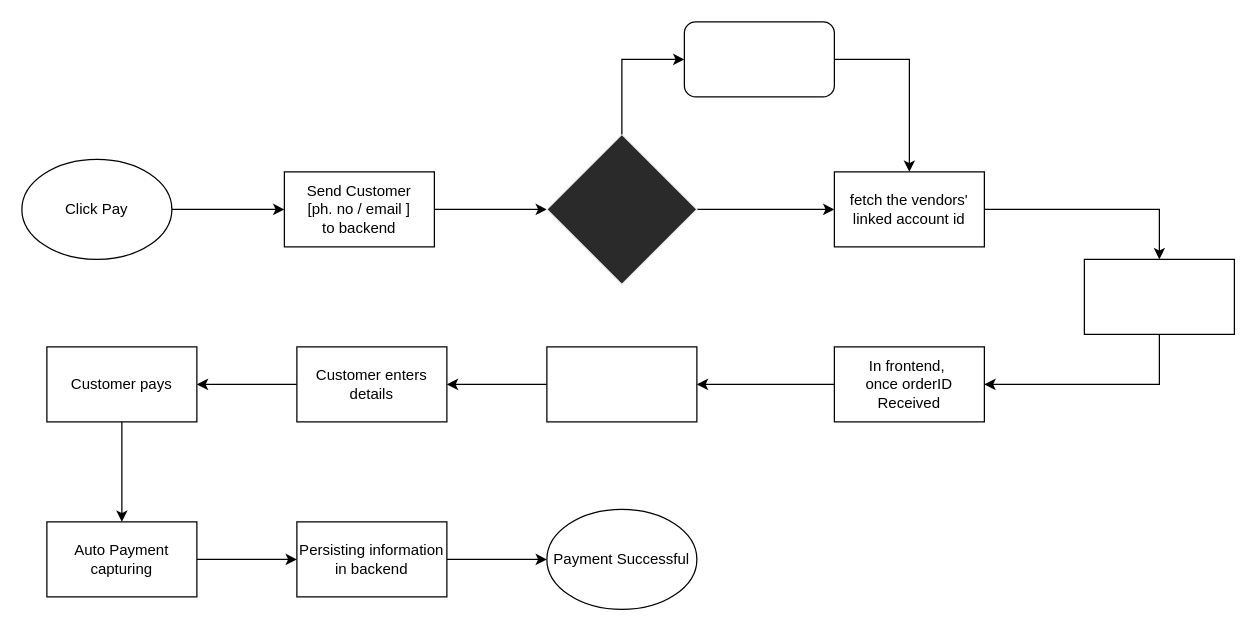
Some shapes in this 1256 by 631 pixel diagram are drawn without their labels. Each missing label, with the centre of its shape:
Add to firestore: [758,59]
Customer Exists?: [621,208]
Pass order ID to checkout page: [621,384]
Send order to Razor pay with linked accounts: [1158,296]
